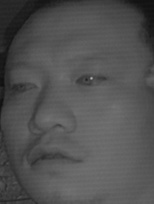eye: (75, 69, 108, 89), (10, 77, 39, 96)
mouth: (25, 143, 80, 174)
